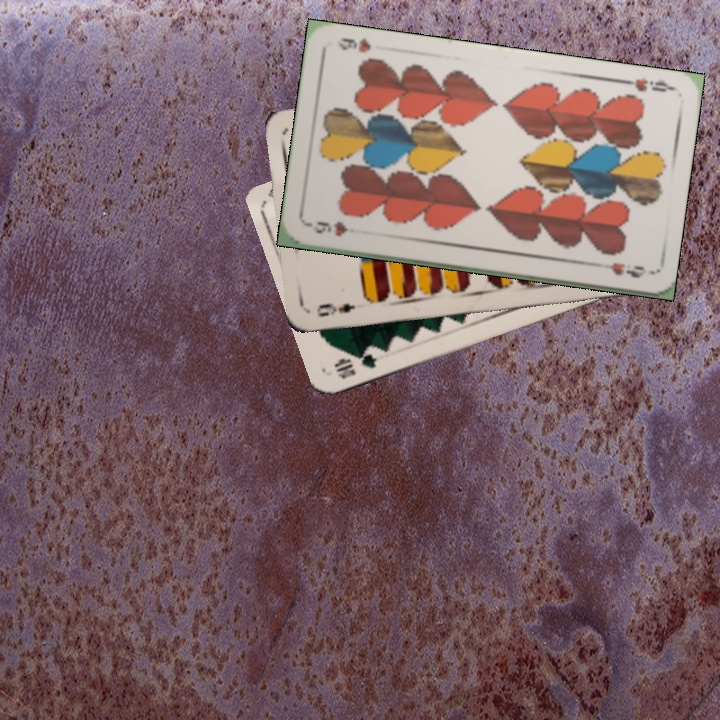E9: (313, 299, 358, 320)
G10: (330, 349, 379, 382)
H9: (617, 73, 676, 95), (304, 217, 351, 240)
